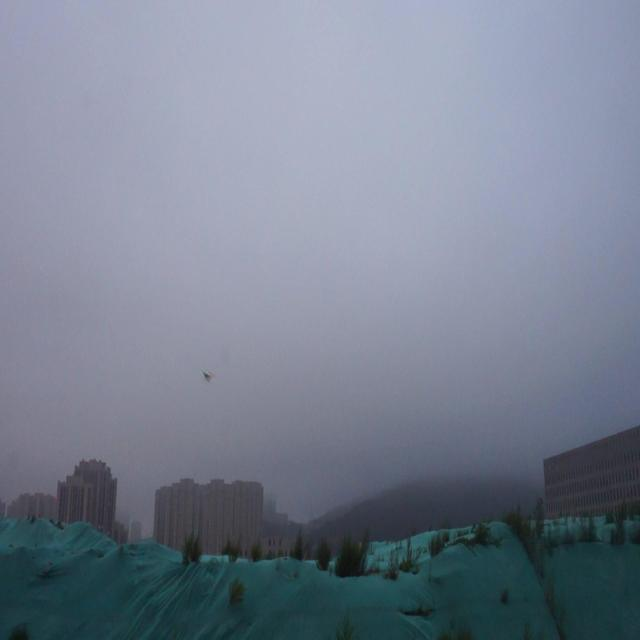drone: (200, 366, 217, 388)
